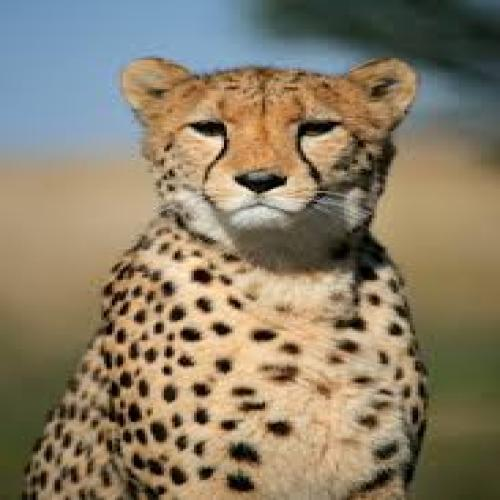cheetah-endangered: (35, 63, 420, 500)
